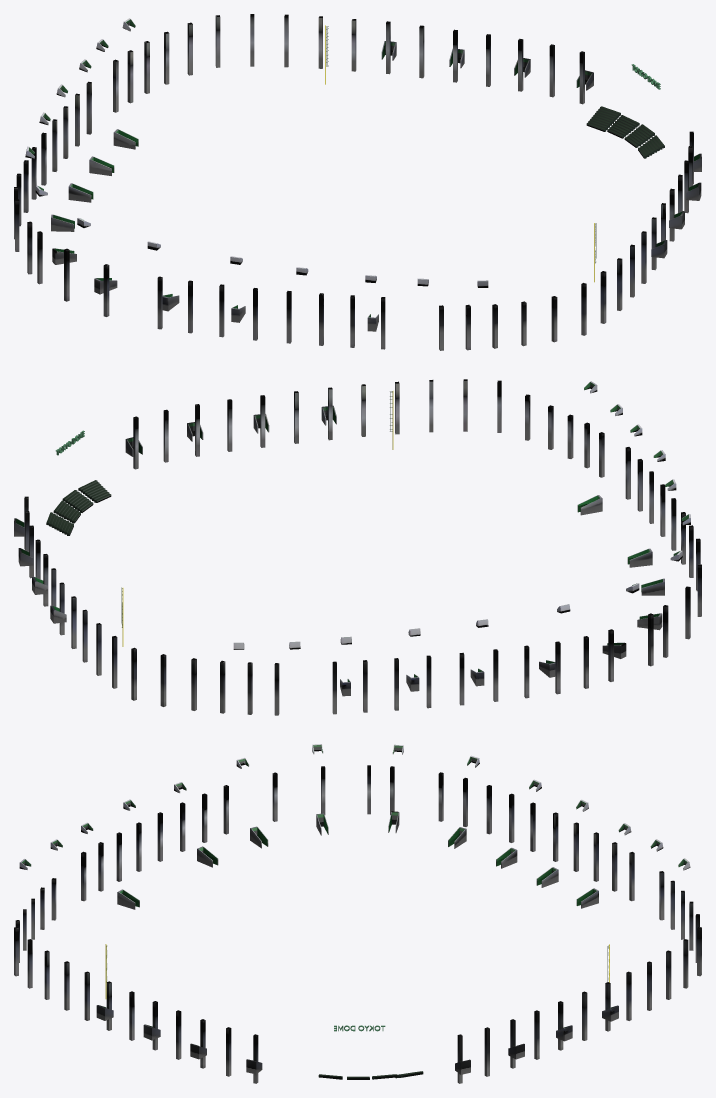
Rendered from TOD_Door&Piller.fbx.
The picture shows the model from 3 angles, top to bottom: view 1: azimuth 30°, elevation 25°; view 2: azimuth 150°, elevation 25°; view 3: azimuth 270°, elevation 25°; orthographic projection. The views are drawn at different scales.
Visible parts, largest first — view 1: TOD_Door_Piller; view 2: TOD_Door_Piller; view 3: TOD_Door_Piller.
Part boxes in pixels (bbox=[...]): TOD_Door_Piller: bbox=[14, 14, 701, 350]; TOD_Door_Piller: bbox=[14, 379, 701, 715]; TOD_Door_Piller: bbox=[14, 744, 701, 1083].
Size of the model in its own units: 4782 by 623 by 5045.
